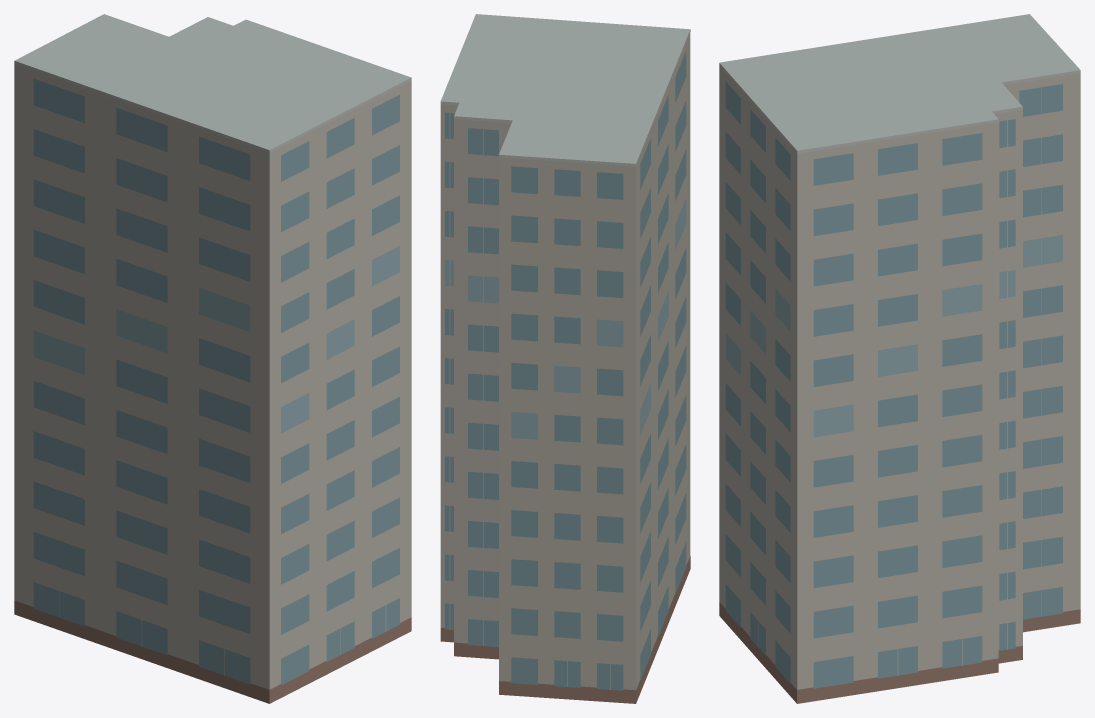
File: survey-upis-32858521.glb
3 views of the same model, side by side, from view 1: azimuth 30°, elevation 25°; view 2: azimuth 150°, elevation 25°; view 3: azimuth 270°, elevation 25° (orthographic). The views are drawn at different scales.
Parts seen in each view (by area): view 1: survey-upis-32858521.tmp; view 2: survey-upis-32858521.tmp; view 3: survey-upis-32858521.tmp.
Part boxes in pixels (bbox=[...]): survey-upis-32858521.tmp: bbox=[14, 14, 411, 703]; survey-upis-32858521.tmp: bbox=[440, 14, 690, 703]; survey-upis-32858521.tmp: bbox=[719, 14, 1080, 703].
Bounding box in the file's own units: 25.01 × 47.15 × 27.93.
